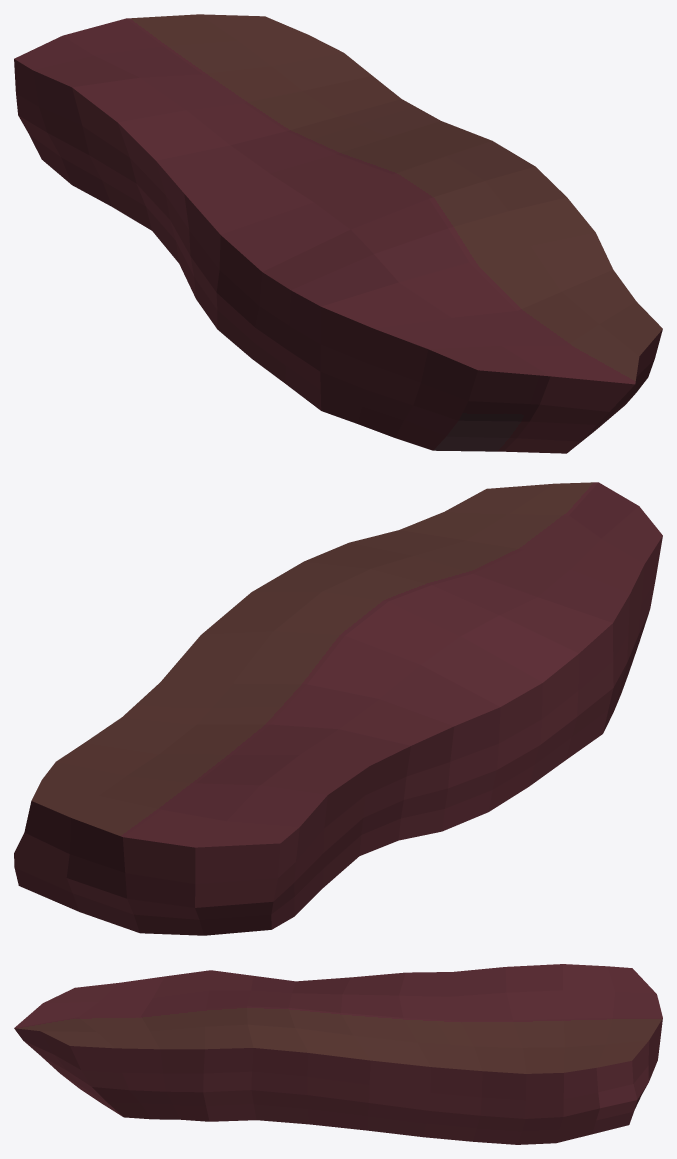
The model's file is jamivene1.fbx.
3 renders of one model, top to bottom at view 1: azimuth 30°, elevation 25°; view 2: azimuth 150°, elevation 25°; view 3: azimuth 270°, elevation 25°, orthographic. The views are drawn at different scales.
Visible parts, largest first — view 1: Cube; view 2: Cube; view 3: Cube.
Boxes of the visible parts, x1,y1,x2,y2 form: Cube: (14,14,662,453); Cube: (14,482,662,935); Cube: (14,964,662,1144).
Size of the model in its own units: 3.01 by 8.77 by 1.47.
